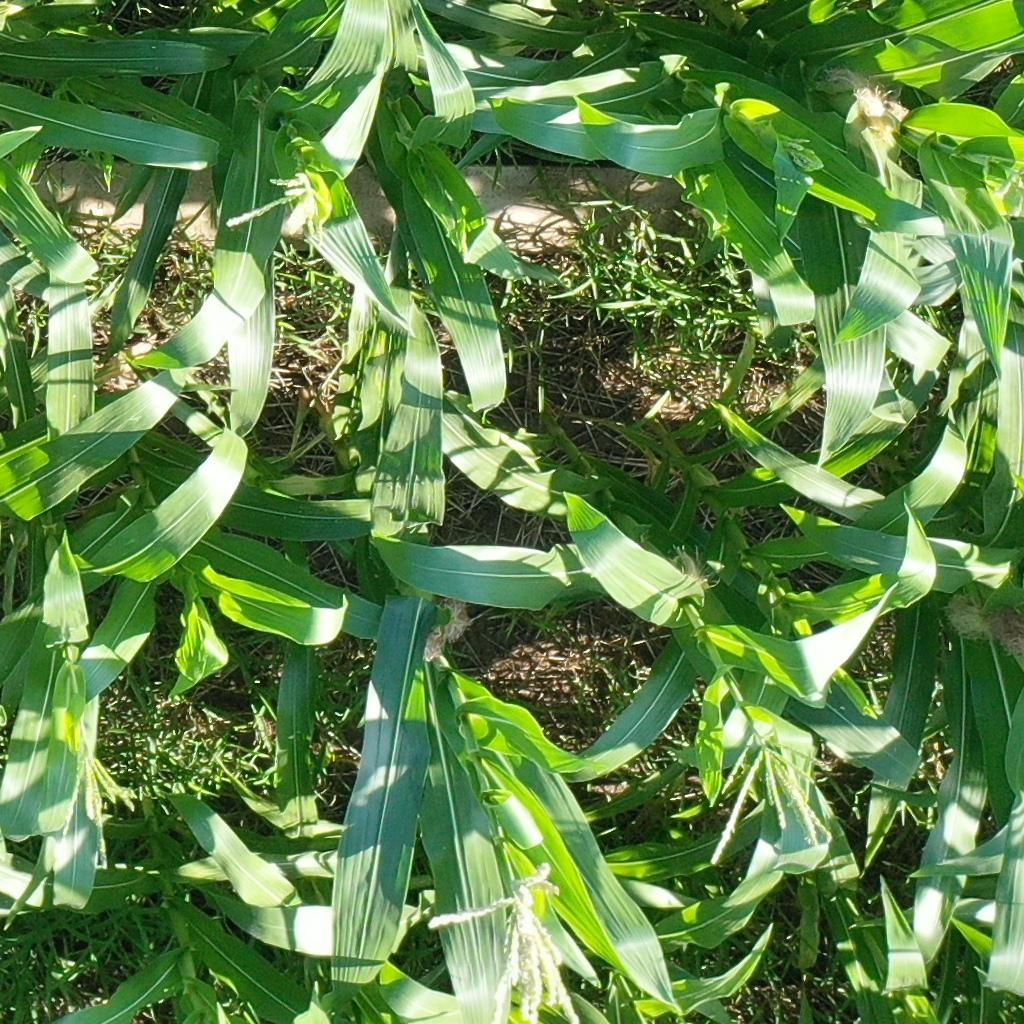Tassel: (410, 849, 592, 1024), (702, 720, 843, 863), (210, 171, 325, 243), (53, 745, 131, 833), (988, 155, 1024, 221), (781, 130, 824, 169), (453, 220, 470, 267)
